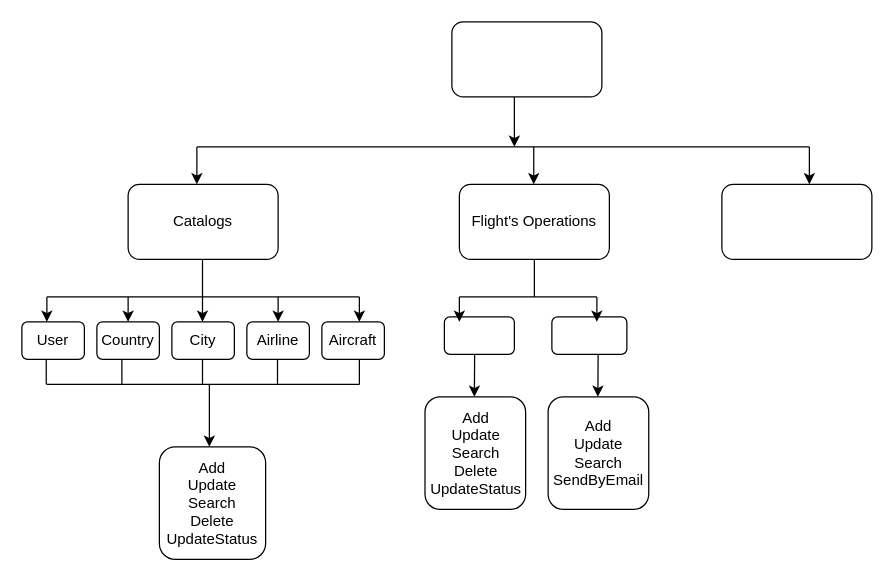
This 894x581 diagram has some shape labels left out. The centre of each missing label's shape, as x and y in pixels:
"Exit" goes at [796,221].
"Flights" goes at [478,335].
"Reports" goes at [589,335].
"User's authentication" goes at [526,59].
